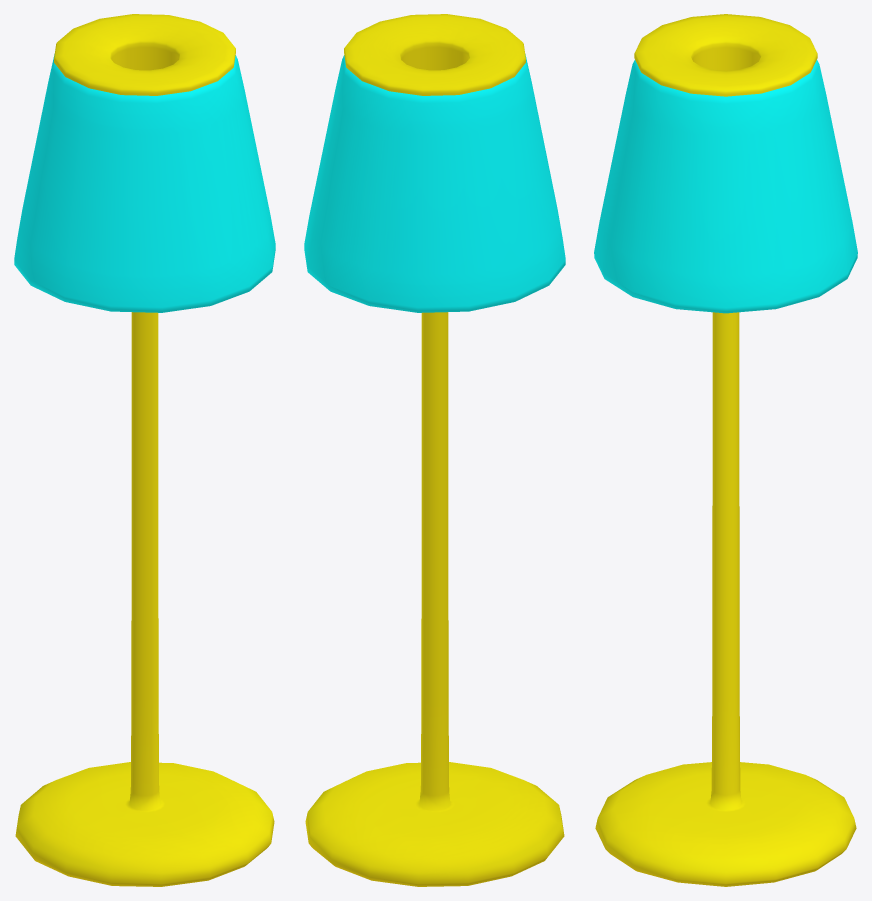
Rendered from lamp.glb.
3 renders of one model, left to right at view 1: azimuth 30°, elevation 25°; view 2: azimuth 150°, elevation 25°; view 3: azimuth 270°, elevation 25°, orthographic.
Parts seen in each view (by area): view 1: room3_stand_big; view 2: room3_stand_big; view 3: room3_stand_big.
Part boxes in pixels (x1,y1,x2,y2): room3_stand_big: (14, 14, 275, 886); room3_stand_big: (304, 14, 565, 886); room3_stand_big: (594, 14, 857, 886).
Bounding box in the file's own units: 1.49 × 4.92 × 1.49.
1 material, 1 textured.
